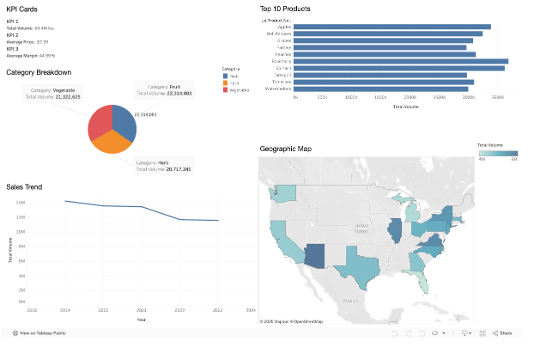

What the dashboard file says about the page in this screenshot:
{"tool":"tableau","page":{"name":"Dashboard 1","canvas":[1000,1000],"units":"permille","ordinal":0},"visuals":[{"type":"worksheet","title":"Sheet 1","mark":"Automatic","box":[5.3,8.3,451.3,191.7]},{"type":"worksheet","title":"Sheet 3","mark":"Bar","rows":["us_product_name"],"cols":["Calculation_75857525955358720"],"box":[456.6,8.3,433.6,422.9]},{"type":"legend","title":"Sheet 4","param":"[federated.098ajfr0wsmogq17yyg8104fmzdb].[usr:Calculation_75857525955358720:qk]","box":[890.1,8.3,104.6,67.7]},{"type":"legend","title":"Sheet 5","param":"[federated.098ajfr0wsmogq17yyg8104fmzdb].[none:Calculation_174584874060992512:nk","box":[890.1,76,104.6,89.6]},{"type":"worksheet","title":"Sheet 5","mark":"Pie","box":[5.3,200,451.3,347.9]},{"type":"worksheet","title":"Sheet 4","mark":"Automatic","box":[456.6,431.2,433.6,560.4]},{"type":"worksheet","title":"Sheet 2","mark":"Automatic","rows":["Calculation_75857525955358720"],"cols":["year"],"box":[5.3,547.9,451.3,443.8]}]}

Visuals, with their boxes on the dashboard's canvas, which has no fixed pixel size, in thousandths of its width and height (x1, y1, x2, y2). These are canvas units, not pixel positions in the 534x347 screenshot, which may show the page scaled, cropped or inside an application window:
"Sheet 1" worksheet: Rect(5, 8, 457, 200)
"Sheet 3" worksheet (Bar marks): Rect(457, 8, 890, 431)
"Sheet 4" legend: Rect(890, 8, 995, 76)
"Sheet 5" legend: Rect(890, 76, 995, 166)
"Sheet 5" worksheet (Pie marks): Rect(5, 200, 457, 548)
"Sheet 4" worksheet: Rect(457, 431, 890, 992)
"Sheet 2" worksheet: Rect(5, 548, 457, 992)
